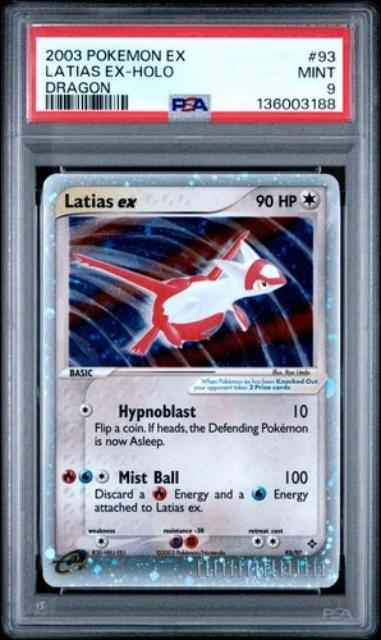Card: (38, 168, 346, 593)
Name: (60, 187, 141, 212)
